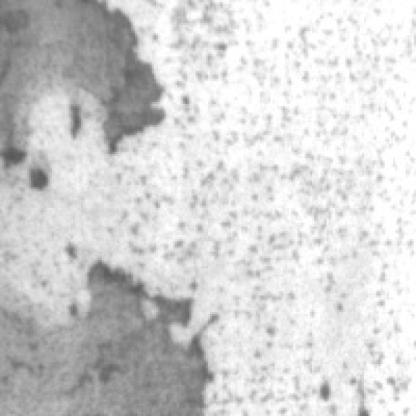patches: (63, 256, 220, 412), (37, 0, 172, 152)
pitted_surface: (168, 0, 416, 399)
